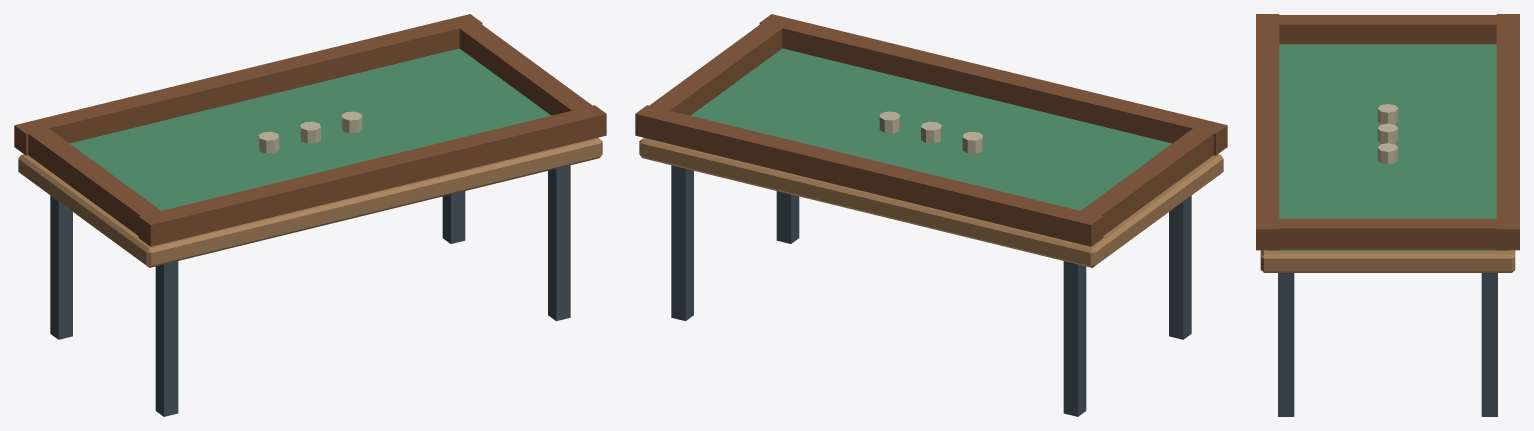
The model's file is billiard_table.glb.
3 views of the same model, side by side, from view 1: azimuth 30°, elevation 25°; view 2: azimuth 150°, elevation 25°; view 3: azimuth 270°, elevation 25° (orthographic). The views are drawn at different scales.
Visible parts, largest first — view 1: billiard_table; view 2: billiard_table; view 3: billiard_table.
Part boxes in pixels (x1,y1,x2,y2): billiard_table: (14,14,606,416); billiard_table: (635,14,1227,416); billiard_table: (1256,14,1519,416).
Size of the model in its own units: 2.2 by 0.95 by 1.14.
